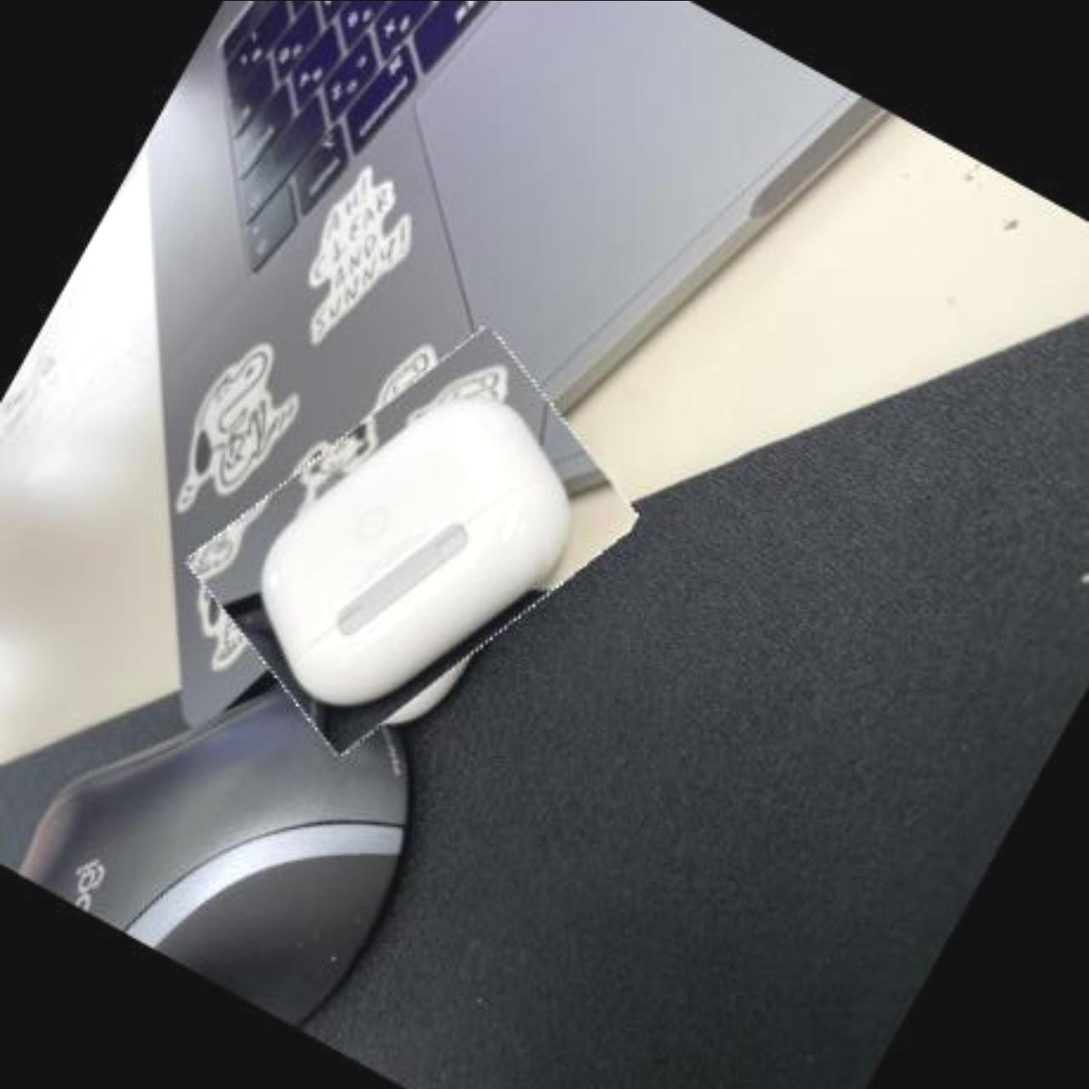AirPods: (174, 283, 650, 799)
